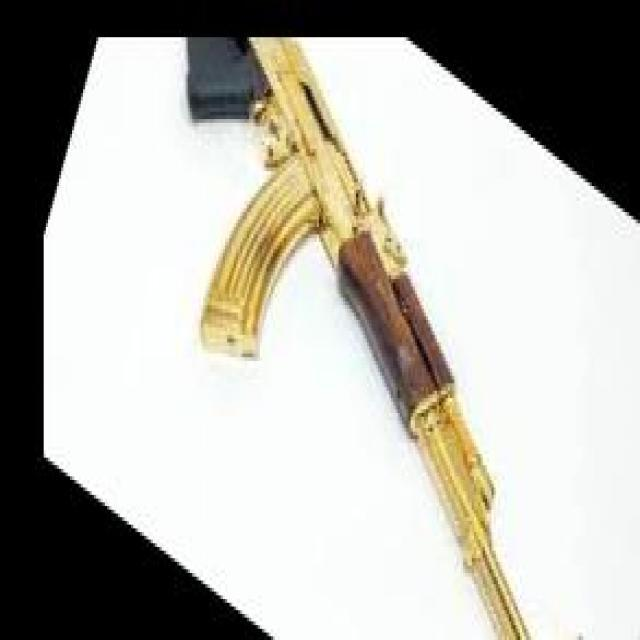weapon: (184, 38, 532, 640)
